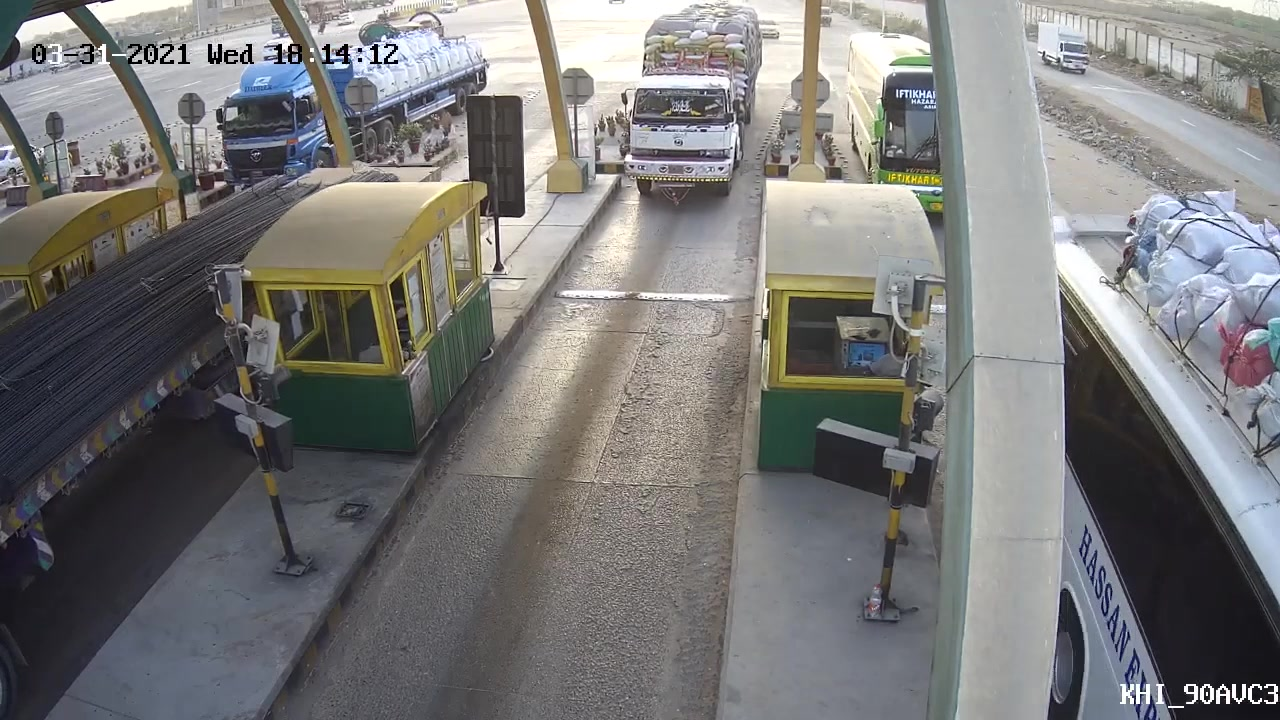F6: (615, 5, 774, 210)
